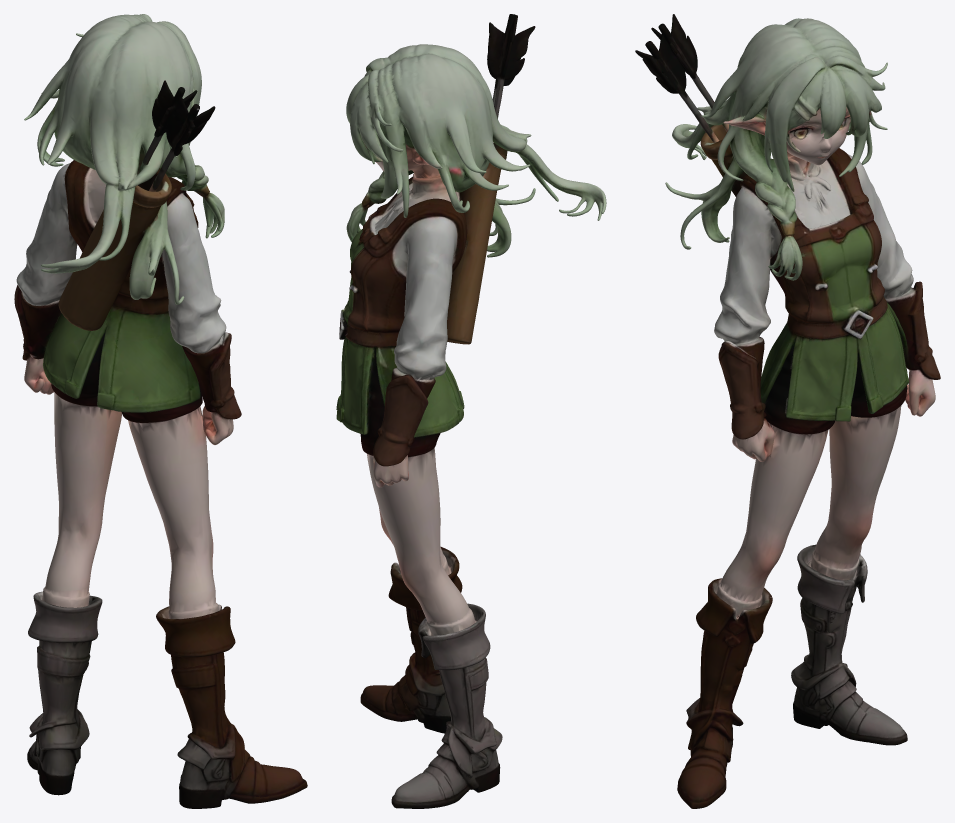
Rendered from aiprintgen_Elf Archer Miniature with Braided Hair-preview.glb.
The picture shows the model from 3 angles, left to right: view 1: azimuth 30°, elevation 25°; view 2: azimuth 150°, elevation 25°; view 3: azimuth 270°, elevation 25°; orthographic projection. The views are drawn at different scales.
Visible parts, largest first — view 1: aiprintgen_node_892cd299-0800-4a74-b0ff-72ed593f7dc9; view 2: aiprintgen_node_892cd299-0800-4a74-b0ff-72ed593f7dc9; view 3: aiprintgen_node_892cd299-0800-4a74-b0ff-72ed593f7dc9.
Boxes of the visible parts, x1=… form: aiprintgen_node_892cd299-0800-4a74-b0ff-72ed593f7dc9: x1=14, y1=14, x2=307, y2=808; aiprintgen_node_892cd299-0800-4a74-b0ff-72ed593f7dc9: x1=336, y1=14, x2=606, y2=808; aiprintgen_node_892cd299-0800-4a74-b0ff-72ed593f7dc9: x1=635, y1=14, x2=940, y2=808.
Bounding box in the file's own units: 0.3612 × 1 × 0.3811.
1 material, 1 textured.
